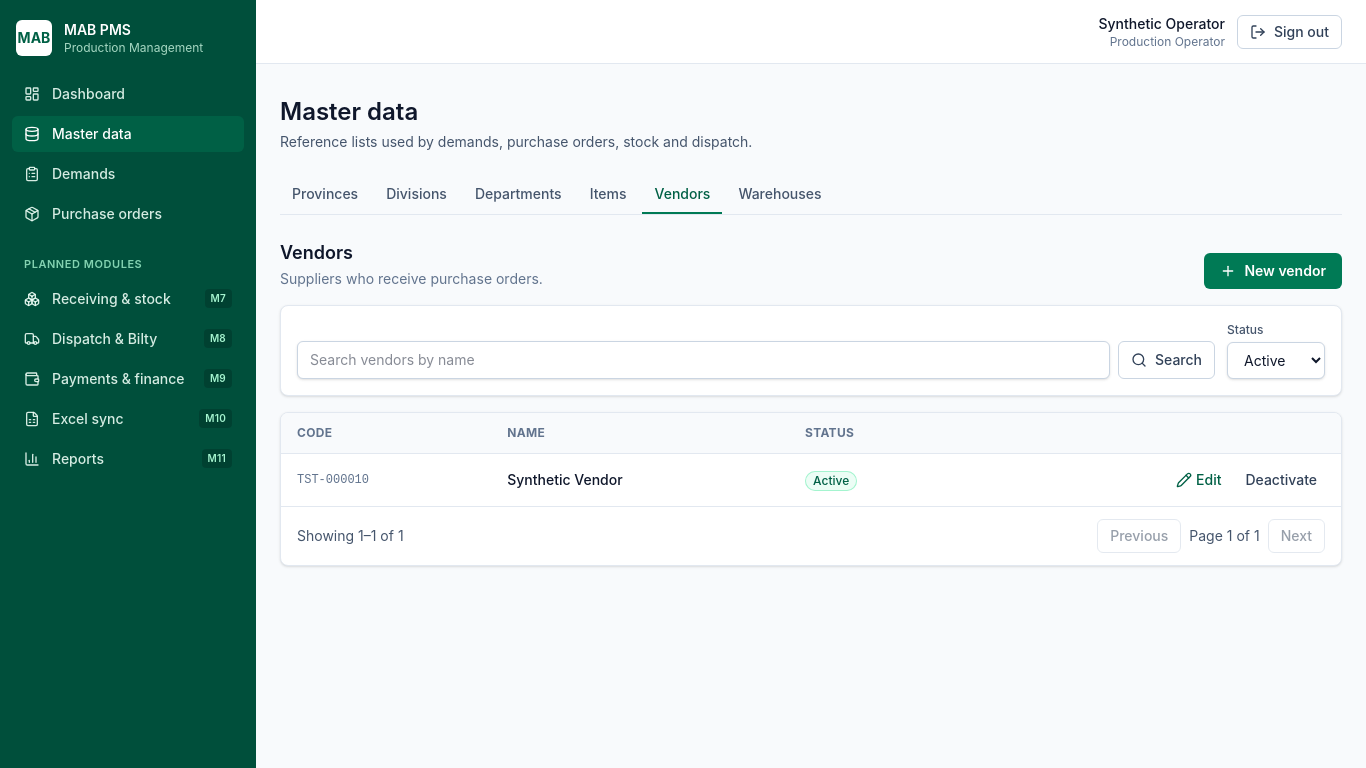
Master data — search, filters and pagination › explains when filters match nothing
This screenshot has width=1366, height=768.
Expected: the cell "Synthetic Vendor" is shown, [491,454,789,506]
Type "nothing" into the search field labelled "Search vendors". click: (704, 360)
box: [297,341,1110,379]
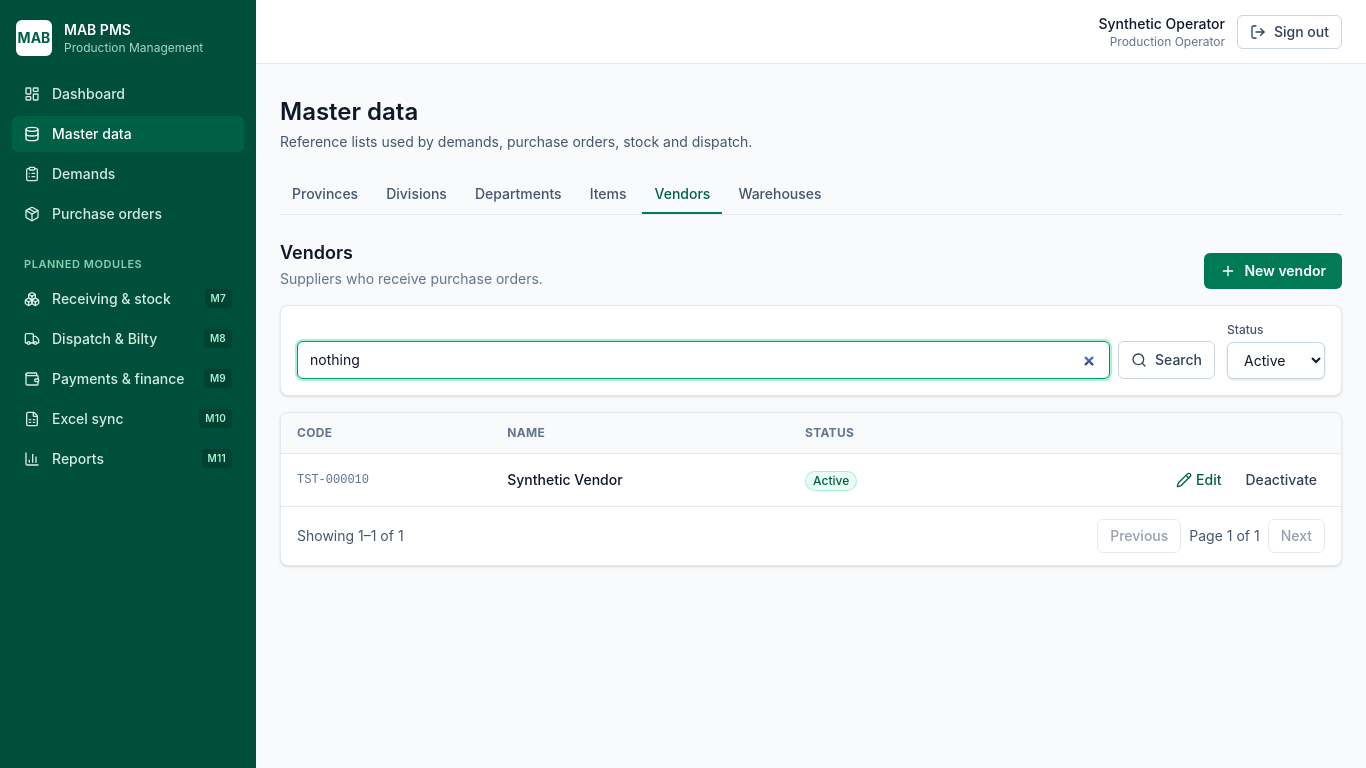
Click the button "Search". click: (1166, 360)
box: [1118,341,1215,379]
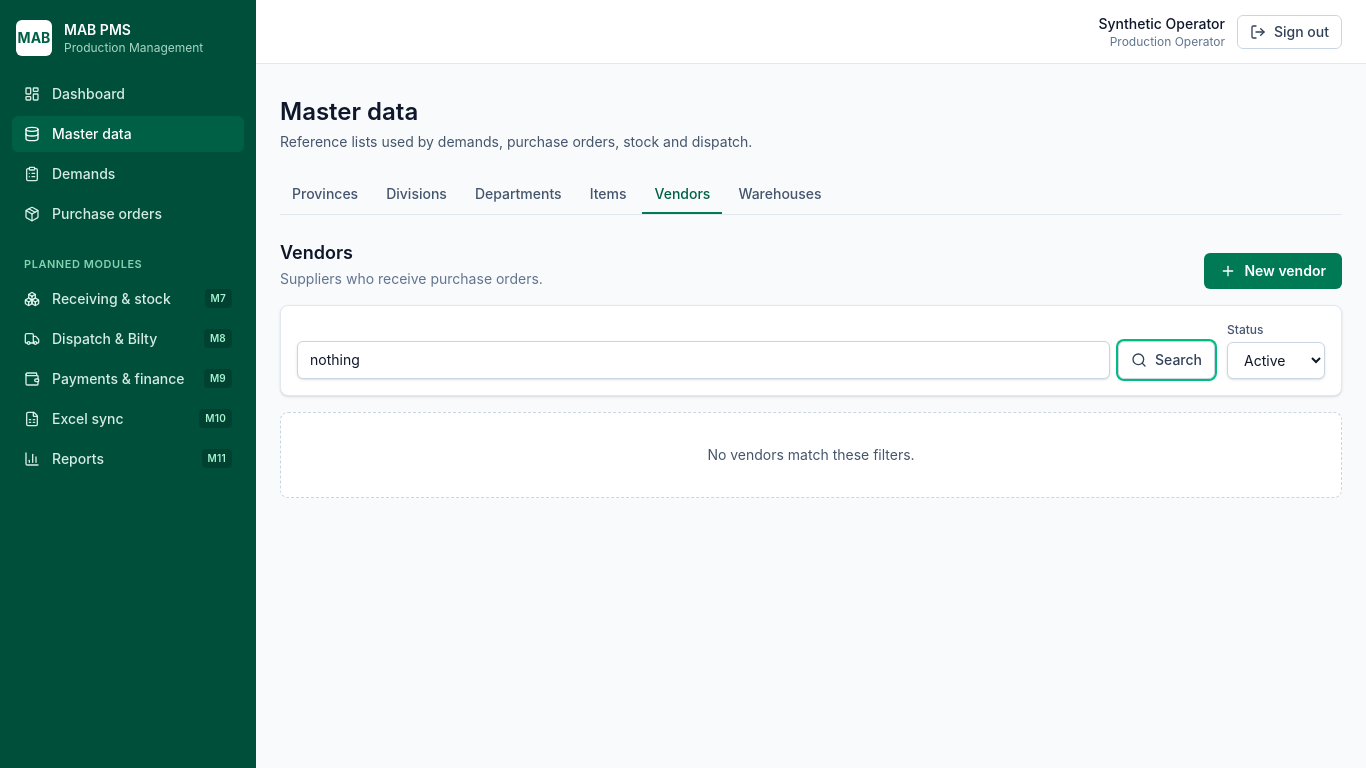
Result: the text "No vendors match these filters." is shown at [280,412,1342,498]
